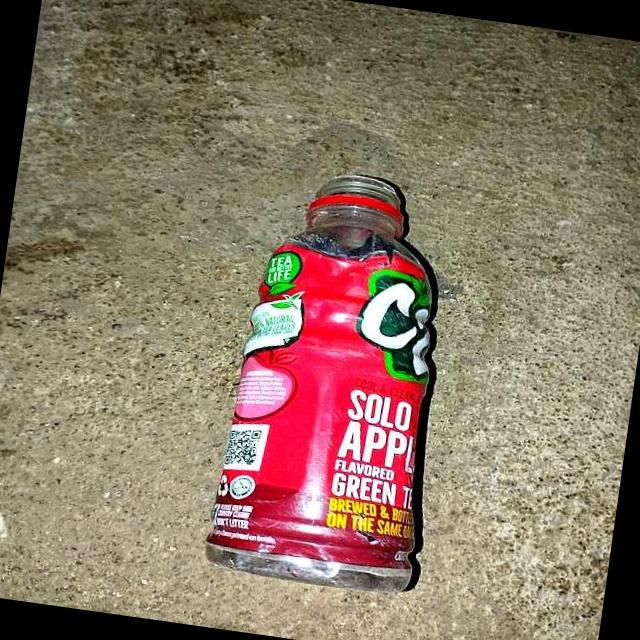Non-biodegradable: (203, 163, 472, 601)
